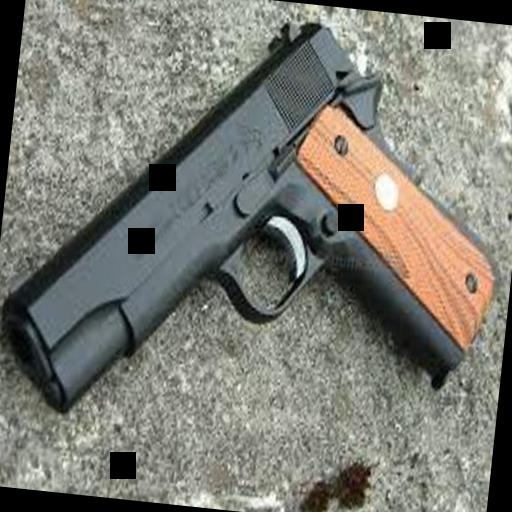Handgun: (2, 0, 512, 460)
